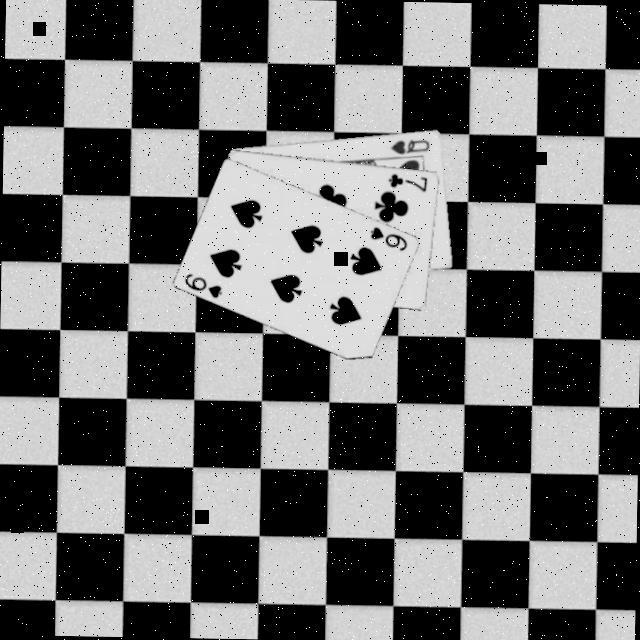6S: (180, 269, 225, 300), (365, 221, 409, 252)
7C: (385, 168, 430, 193)
QH: (387, 135, 431, 156)
